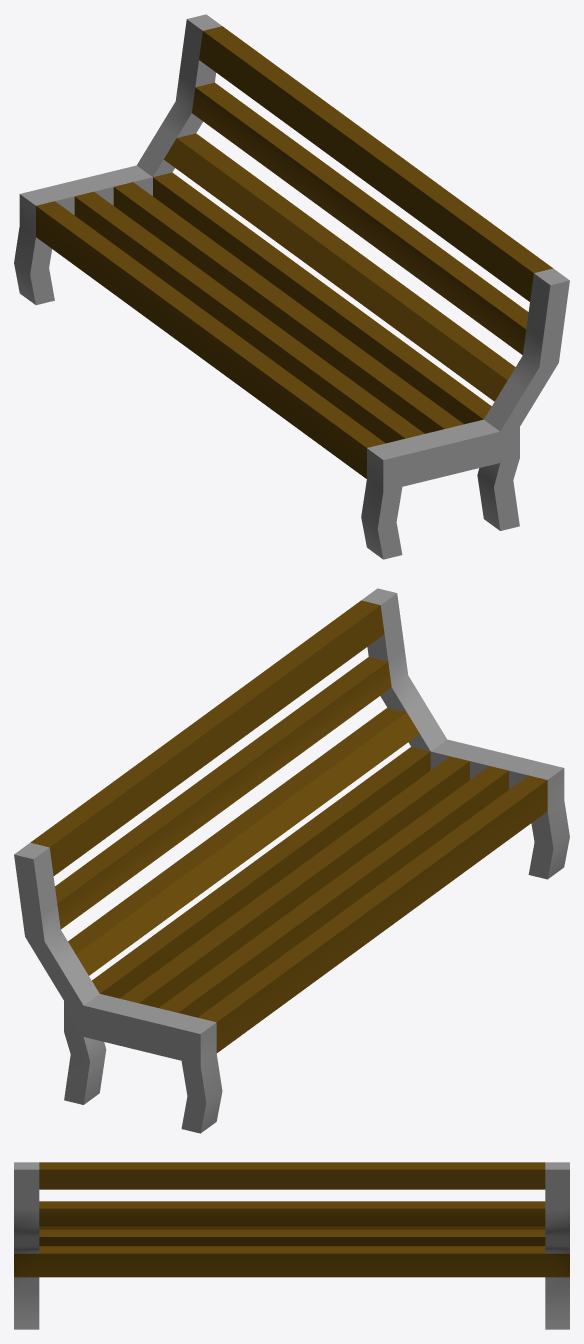
File: lavochka.glb
3 views of the same model, one above another, from view 1: azimuth 30°, elevation 25°; view 2: azimuth 150°, elevation 25°; view 3: azimuth 270°, elevation 25° (orthographic). The views are drawn at different scales.
Parts seen in each view (by area): view 1: Cube; view 2: Cube; view 3: Cube.
Boxes of the visible parts, x1,y1,x2,y2 form: Cube: [14, 14, 569, 559]; Cube: [14, 588, 569, 1133]; Cube: [14, 1162, 569, 1329].
Bounding box in the file's own units: 5.33 × 6.18 × 17.45.
